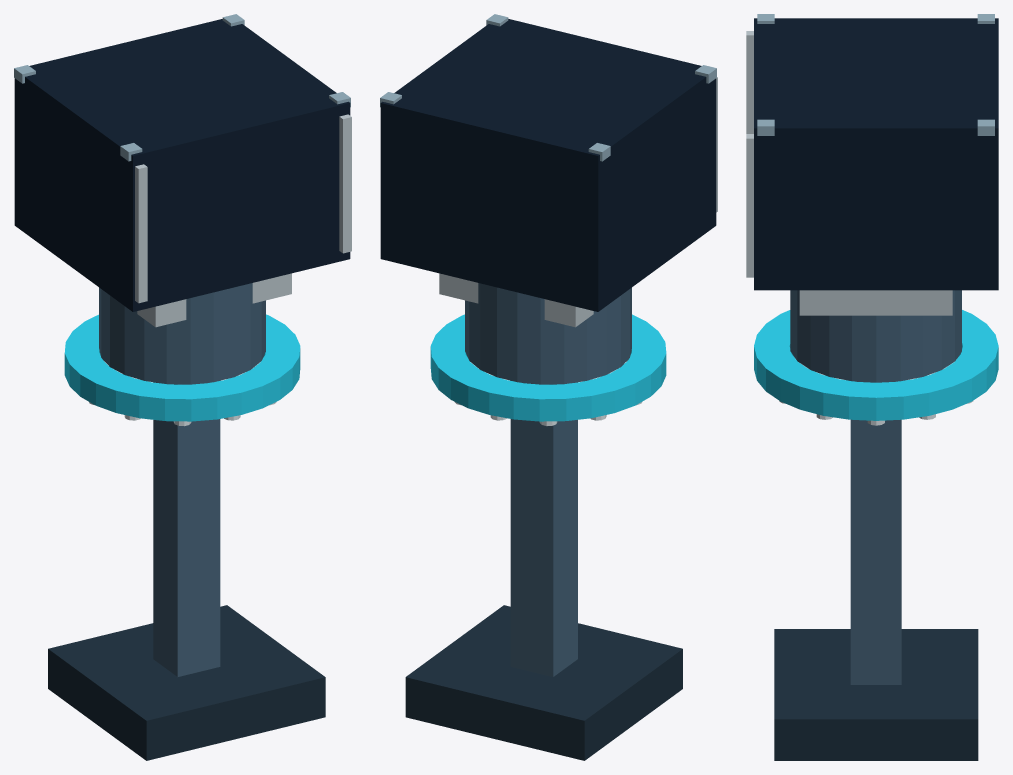
Rendered from 46_L73_WaferDefectInspectionCamera.fbx.
3 views of the same model, side by side, from view 1: azimuth 30°, elevation 25°; view 2: azimuth 150°, elevation 25°; view 3: azimuth 270°, elevation 25° (orthographic). The views are drawn at different scales.
Visible parts, largest first — view 1: WaferDefectInspectionCamera_Part_0003, WaferDefectInspectionCamera, WaferDefectInspectionCamera_Part_0010, WaferDefectInspectionCamera_Part_0011, WaferDefectInspectionCamera_Part_0009, WaferDefectInspectionCamera_Part_0008; view 2: WaferDefectInspectionCamera_Part_0003, WaferDefectInspectionCamera, WaferDefectInspectionCamera_Part_0010, WaferDefectInspectionCamera_Part_0011; view 3: WaferDefectInspectionCamera_Part_0003, WaferDefectInspectionCamera, WaferDefectInspectionCamera_Part_0011, WaferDefectInspectionCamera_Part_0010, WaferDefectInspectionCamera_Part_0009, WaferDefectInspectionCamera_Part_0008.
Part boxes in pixels (left/top/right/bottom): WaferDefectInspectionCamera_Part_0003: left=14, top=19, right=350, bottom=311; WaferDefectInspectionCamera: left=48, top=273, right=325, bottom=760; WaferDefectInspectionCamera_Part_0010: left=99, top=283, right=265, bottom=384; WaferDefectInspectionCamera_Part_0011: left=64, top=314, right=300, bottom=421; WaferDefectInspectionCamera_Part_0009: left=339, top=114, right=351, bottom=253; WaferDefectInspectionCamera_Part_0008: left=135, top=164, right=147, bottom=303; WaferDefectInspectionCamera_Part_0003: left=380, top=19, right=716, bottom=311; WaferDefectInspectionCamera: left=405, top=273, right=682, bottom=760; WaferDefectInspectionCamera_Part_0010: left=465, top=283, right=631, bottom=384; WaferDefectInspectionCamera_Part_0011: left=430, top=314, right=666, bottom=421; WaferDefectInspectionCamera_Part_0003: left=754, top=18, right=998, bottom=290; WaferDefectInspectionCamera: left=774, top=290, right=978, bottom=760; WaferDefectInspectionCamera_Part_0011: left=754, top=310, right=998, bottom=420; WaferDefectInspectionCamera_Part_0010: left=790, top=290, right=961, bottom=382; WaferDefectInspectionCamera_Part_0009: left=746, top=134, right=753, bottom=277; WaferDefectInspectionCamera_Part_0008: left=746, top=31, right=753, bottom=133.
Size of the model in its own units: 52.16 by 139 by 49.49.
